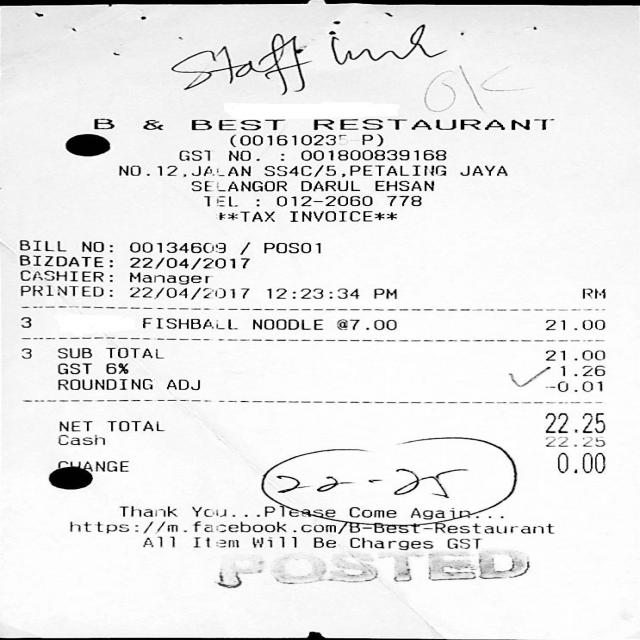text: (143, 519, 337, 534), (312, 118, 553, 130), (263, 164, 444, 177), (432, 521, 554, 535), (128, 286, 247, 300), (300, 149, 444, 160), (128, 256, 247, 269), (229, 134, 345, 146), (16, 254, 111, 267), (543, 412, 603, 432), (188, 118, 284, 130), (17, 284, 104, 297), (17, 269, 111, 281), (56, 378, 150, 390), (347, 536, 432, 549), (140, 316, 230, 328), (275, 195, 370, 206), (190, 180, 284, 191), (128, 271, 206, 284), (289, 209, 372, 221), (555, 452, 604, 472), (128, 242, 223, 252), (264, 288, 358, 298), (263, 505, 334, 518), (345, 522, 417, 534), (118, 164, 183, 177), (406, 506, 471, 519), (542, 436, 603, 448), (69, 520, 130, 532), (250, 319, 320, 329), (120, 506, 176, 518), (542, 364, 603, 375), (347, 506, 397, 519), (335, 318, 394, 329), (300, 180, 358, 191), (106, 420, 163, 431), (262, 242, 318, 253), (543, 319, 603, 329), (543, 350, 603, 360), (190, 165, 248, 175), (374, 180, 432, 190), (104, 347, 162, 357), (18, 238, 64, 250), (550, 381, 600, 392), (251, 536, 296, 548), (193, 537, 239, 548), (191, 505, 228, 518), (444, 537, 480, 550), (459, 165, 505, 175), (57, 434, 102, 444), (141, 536, 175, 548), (239, 210, 273, 221), (386, 195, 419, 206), (202, 195, 235, 206), (57, 362, 90, 373), (165, 378, 198, 389), (58, 420, 90, 431), (81, 240, 110, 252), (225, 150, 258, 160), (175, 150, 208, 160), (57, 347, 90, 357), (311, 536, 335, 549), (361, 133, 382, 145), (105, 362, 127, 373), (581, 288, 604, 298), (373, 288, 394, 298), (92, 118, 112, 128), (141, 119, 160, 129), (238, 241, 248, 254), (20, 316, 29, 328), (21, 348, 30, 358), (312, 339, 345, 341), (581, 412, 590, 418), (279, 153, 283, 160)
